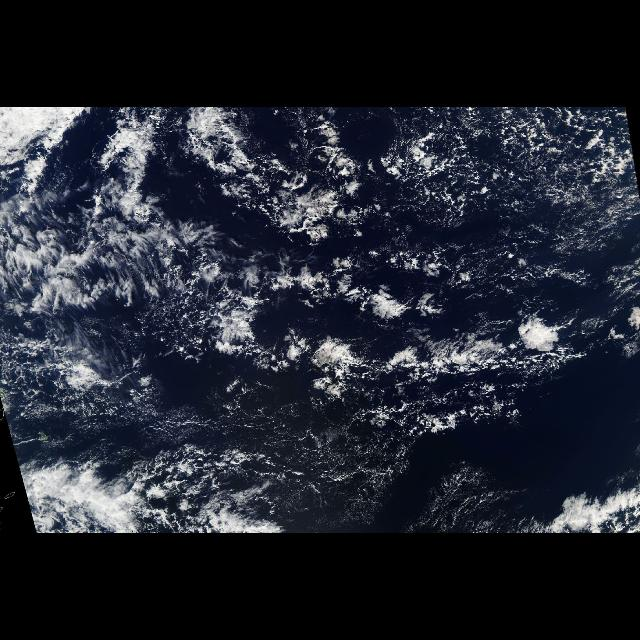Fish: (164, 290, 624, 450)
Gravel: (0, 262, 594, 498), (355, 108, 639, 260)
